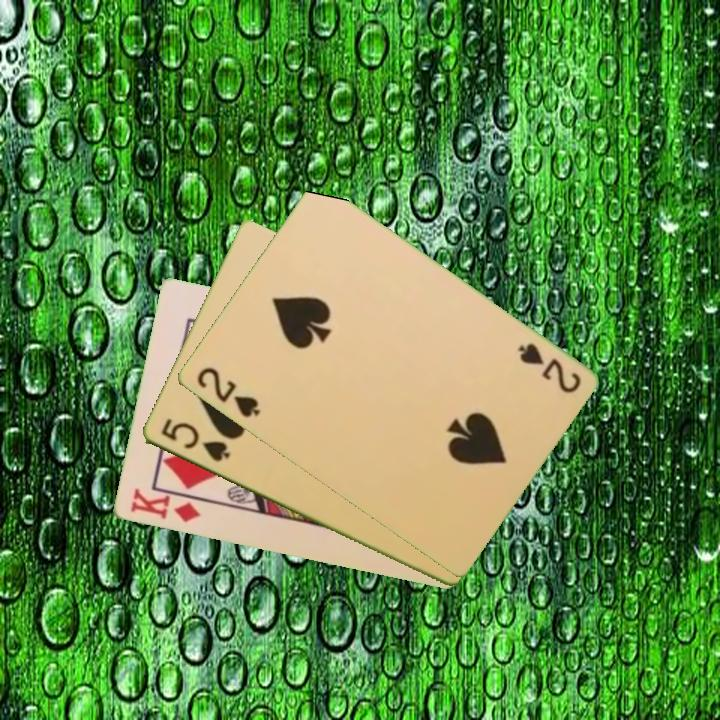2s: (192, 363, 263, 421), (514, 339, 584, 397)
5s: (157, 414, 233, 465)
Kd: (126, 485, 203, 526)
